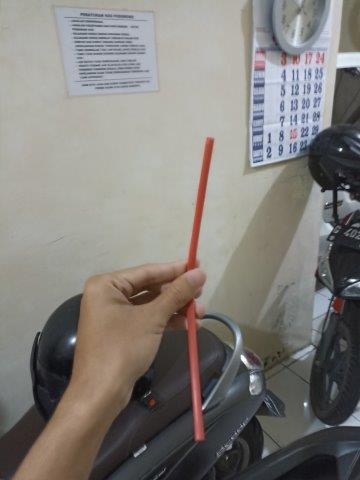sedotan: (187, 140, 213, 436)
